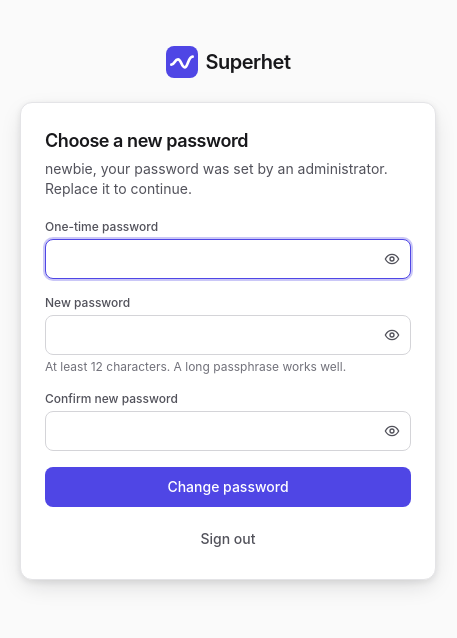
forced password change › refuses to reuse the one-time password and reports a wrong one
Expected: the heading "Choose a new password" is shown, x1=45 y1=130 x2=248 y2=151
Type "same-password-123" into the password field labelled "One-time password" at (212, 259), box x1=46 y1=240 x2=378 y2=278
Type "same-password-123" into the password field labelled "New password" at (212, 335), box x1=46 y1=316 x2=378 y2=354
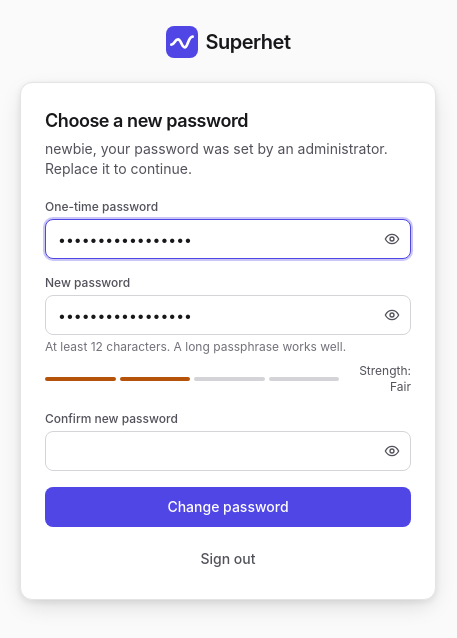
Type "same-password-123" into the password field labelled "Confirm new password" at (212, 451), box x1=46 y1=432 x2=378 y2=470
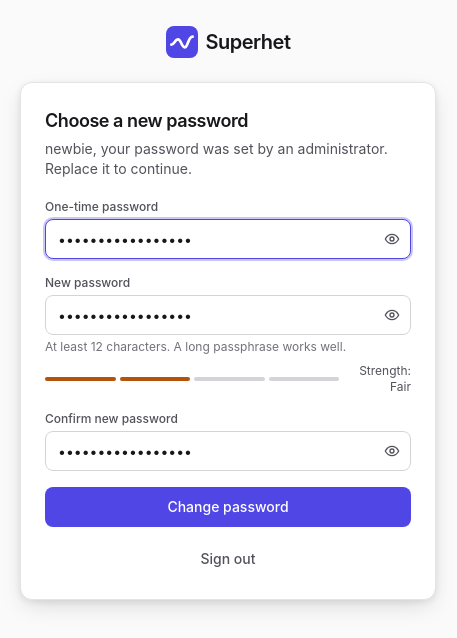
Submit the form labelled "New password", box x1=45 y1=199 x2=411 y2=575
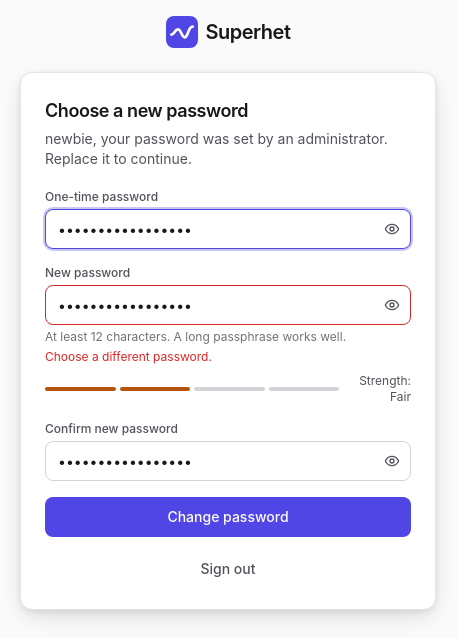
Expected: the text "Choose a different password." is shown, x1=45 y1=349 x2=212 y2=364
Type "another-password-456" into the password field labelled "New password" at (212, 305), box x1=46 y1=286 x2=378 y2=324
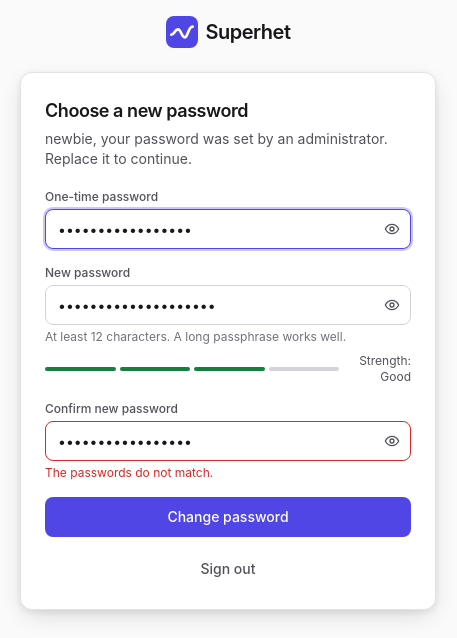
Type "another-password-456" into the password field labelled "Confirm new password" at (212, 441), box x1=46 y1=422 x2=378 y2=460
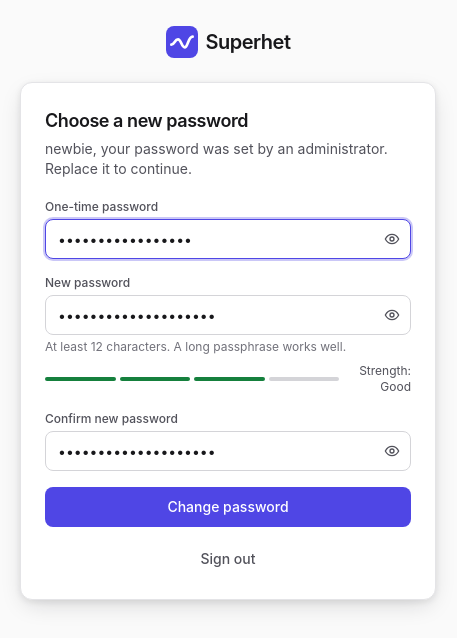
Submit the form labelled "New password", box x1=45 y1=199 x2=411 y2=575
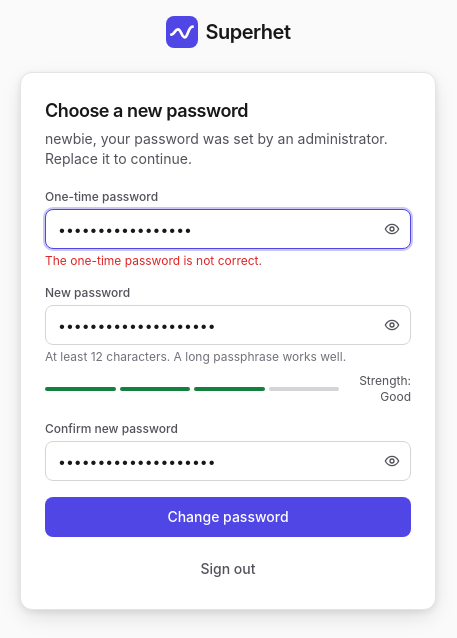
Expected: the text "The one-time password is not correct." is shown, x1=45 y1=253 x2=262 y2=268
